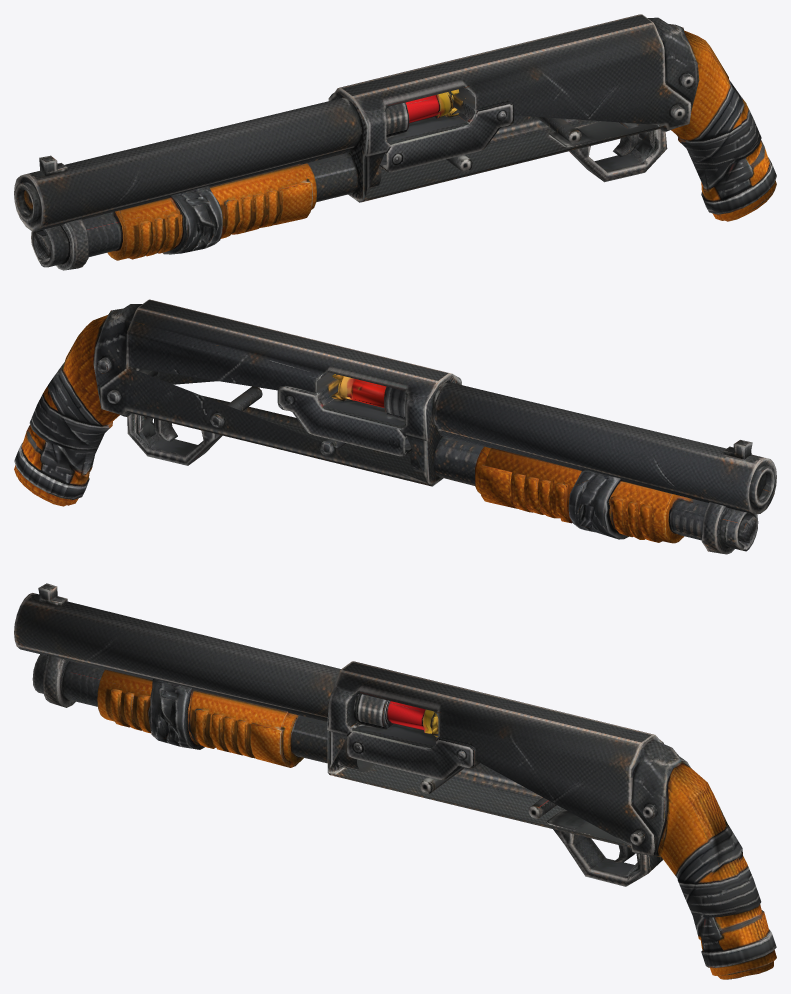
Rendered from ashes_shotgun_meshy_2026-11-15.glb.
3 renders of one model, top to bottom at view 1: azimuth 30°, elevation 25°; view 2: azimuth 150°, elevation 25°; view 3: azimuth 330°, elevation 25°, orthographic.
Bounding box in the file's own units: 0.9556 × 0.2749 × 0.0947.
1 material, 1 textured.
